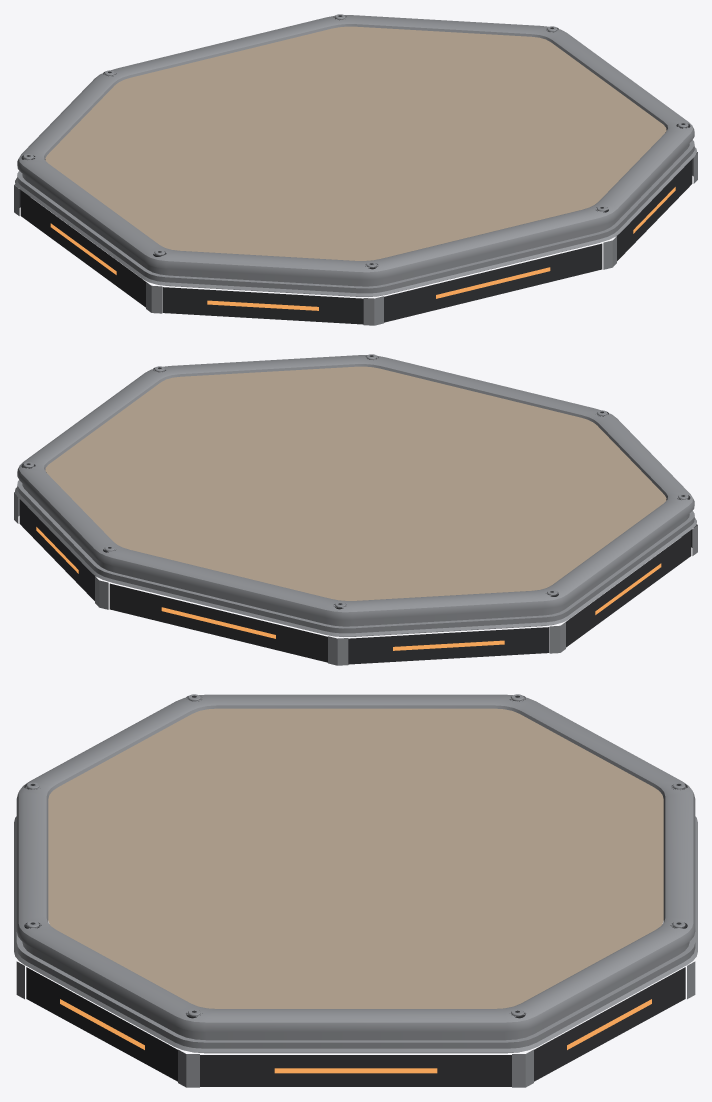
File: pad_kit.glb
The picture shows the model from 3 angles, top to bottom: view 1: azimuth 30°, elevation 25°; view 2: azimuth 150°, elevation 25°; view 3: azimuth 270°, elevation 25°; orthographic projection. The views are drawn at different scales.
Parts seen in each view (by area): view 1: PAD_DECK, PAD_BEZEL, PAD_SKIRT, PAD_VENTS, PAD_BOLTS; view 2: PAD_DECK, PAD_BEZEL, PAD_SKIRT, PAD_VENTS, PAD_BOLTS; view 3: PAD_DECK, PAD_BEZEL, PAD_SKIRT, PAD_VENTS, PAD_BOLTS.
Part boxes in pixels (x1,y1,x2,y2): PAD_DECK: [45, 26, 666, 260]; PAD_BEZEL: [15, 15, 696, 296]; PAD_SKIRT: [14, 132, 697, 325]; PAD_VENTS: [50, 187, 675, 310]; PAD_BOLTS: [21, 14, 690, 269]; PAD_DECK: [45, 366, 666, 600]; PAD_BEZEL: [15, 355, 696, 636]; PAD_SKIRT: [14, 472, 697, 665]; PAD_VENTS: [36, 527, 661, 650]; PAD_BOLTS: [21, 354, 690, 609]; PAD_DECK: [48, 708, 663, 1008]; PAD_BEZEL: [14, 694, 697, 1053]; PAD_SKIRT: [16, 961, 695, 1087]; PAD_VENTS: [60, 999, 651, 1073]; PAD_BOLTS: [24, 694, 687, 1018].
Bounding box in the file's own units: 1.73 × 0.1682 × 1.51.
